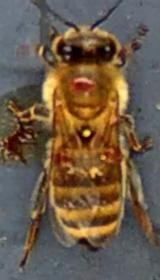varroa_mite: (98, 127, 127, 176), (42, 150, 85, 179), (67, 67, 101, 101)
